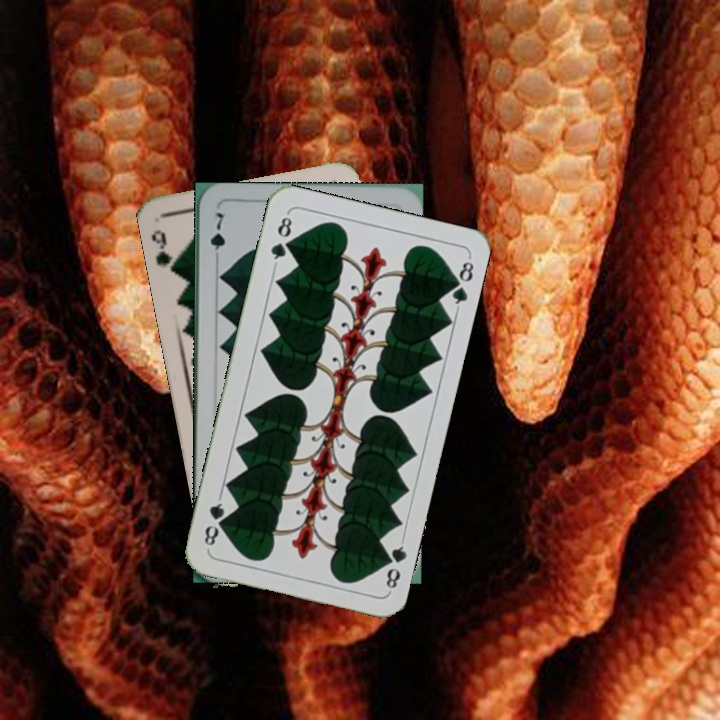G7: (206, 208, 228, 266)
G8: (378, 535, 409, 591), (266, 209, 295, 268)
G9: (147, 225, 182, 276)
